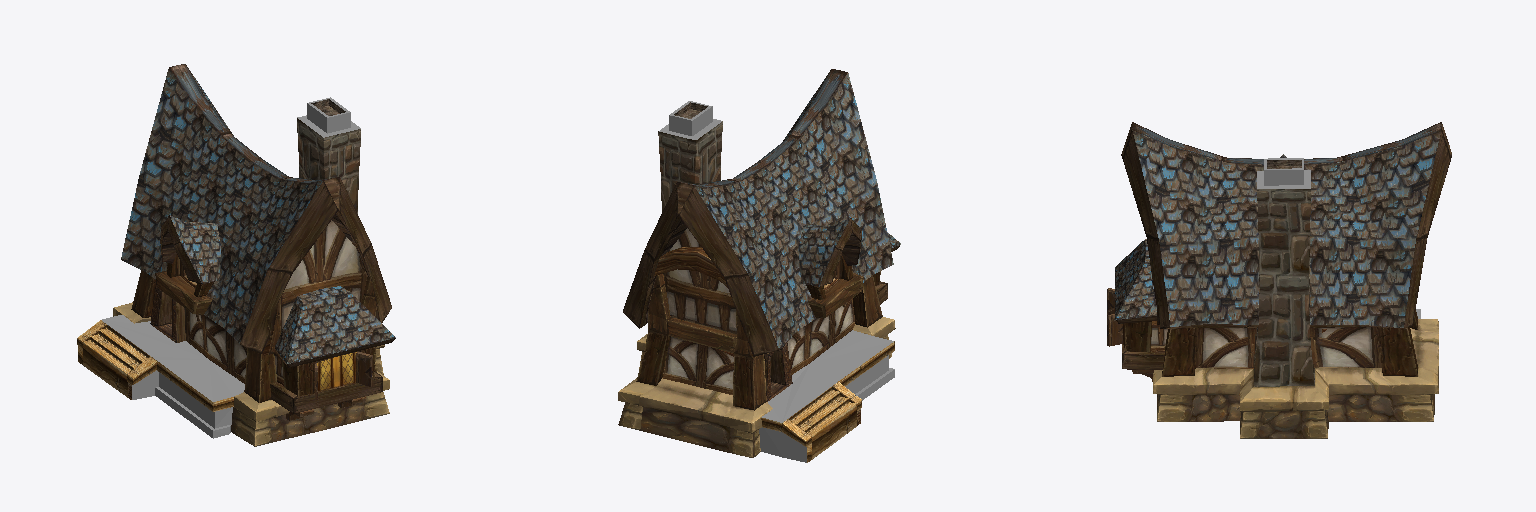
The picture shows the model from 3 angles: view 1: azimuth 30°, elevation 25°; view 2: azimuth 150°, elevation 25°; view 3: azimuth 270°, elevation 25°; orthographic projection.
Parts seen in each view (by area): view 1: houseexterior; view 2: houseexterior; view 3: houseexterior.
Part boxes in pixels (left/top/right/bottom): houseexterior: left=77, top=64, right=395, bottom=446; houseexterior: left=618, top=69, right=900, bottom=462; houseexterior: left=1107, top=122, right=1451, bottom=438.
Size of the model in its own units: 23.55 by 27.17 by 32.38.
Materials: 21 (19 with a texture image).